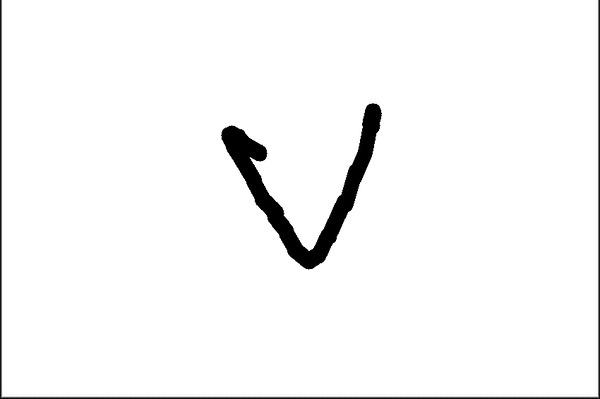V: (201, 100, 391, 266)
